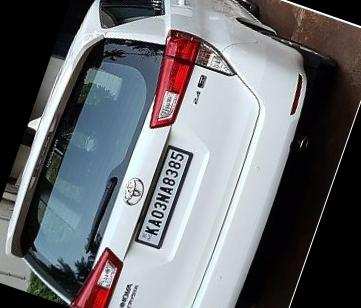plate: (120, 126, 214, 258)
